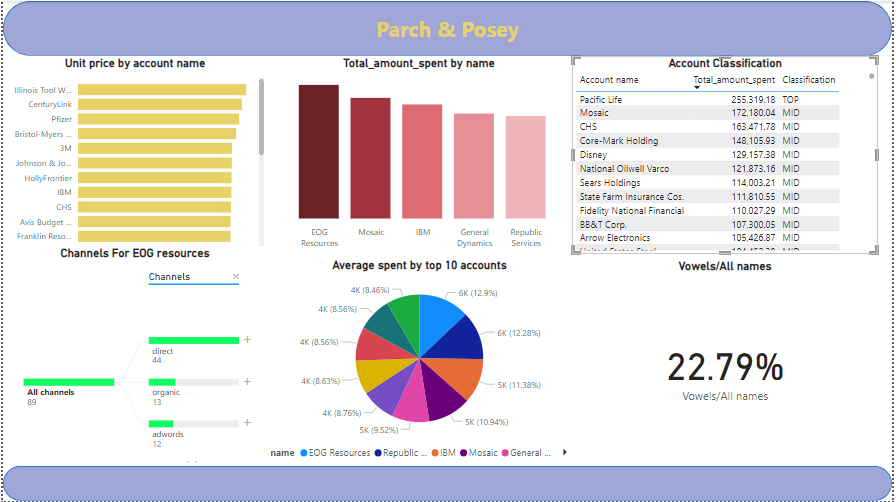

This screenshot's page, from the dashboard's own definition file:
{"tool":"powerbi","page":{"name":"Parch & Posey","canvas":[1280,720],"ordinal":0},"visuals":[{"type":"barChart","title":"Unit price by account name","fields":{"Category":["public accounts.name"],"Y":["Measures (3).Measure"]},"box":[0,78.8,380.8,281.8],"z":0},{"type":"clusteredColumnChart","fields":{"Y":["Measures (3).Total_amount_spent"],"Category":["public accounts.name"]},"box":[380.8,78.8,437.9,285.2],"z":1000},{"type":"tableEx","title":"Account Classification","fields":{"Values":["public accounts.name","Measures (3).Total_amount_spent","Measures (3).Classification"]},"box":[818.7,78.8,441.2,285.2],"z":2000},{"type":"shape","box":[0,0,1280,78.8],"z":3000},{"type":"decompositionTreeVisual","title":"Channels For EOG resources","fields":{"ExplainBy":["public web_events.channel","public accounts.name"],"Analyze":["CountNonNull(public web_events.channel)"]},"box":[0,352.8,380.2,316.8],"z":4000},{"type":"pieChart","title":"Average spent by top 10 accounts","fields":{"Category":["public accounts.name"],"Y":["Measures (3).AVG_Total_amount_spent"]},"box":[380.2,370.1,439.2,299.5],"z":5000},{"type":"card","title":"Vowels/All names","fields":{"Values":["Measures (3).VOWELS"]},"box":[819.4,371.5,440.6,298.1],"z":6000},{"type":"shape","box":[0,669.6,1280.2,50.4],"z":7000}]}

Visuals, with their boxes in screenshot pixels (x1, y1, x2, y2), scaled from the page's 1280x720 canvas onto the 896x502 screenshot:
"Unit price by account name" barChart: {"left": 0, "top": 55, "right": 267, "bottom": 251}
clusteredColumnChart - Measures (3).Total_amount_spent x public accounts.name: {"left": 267, "top": 55, "right": 573, "bottom": 254}
"Account Classification" tableEx: {"left": 573, "top": 55, "right": 882, "bottom": 254}
shape: {"left": 0, "top": 0, "right": 895, "bottom": 55}
"Channels For EOG resources" decompositionTreeVisual: {"left": 0, "top": 246, "right": 266, "bottom": 467}
"Average spent by top 10 accounts" pieChart: {"left": 266, "top": 258, "right": 574, "bottom": 467}
"Vowels/All names" card: {"left": 574, "top": 259, "right": 882, "bottom": 467}
shape: {"left": 0, "top": 467, "right": 895, "bottom": 501}
